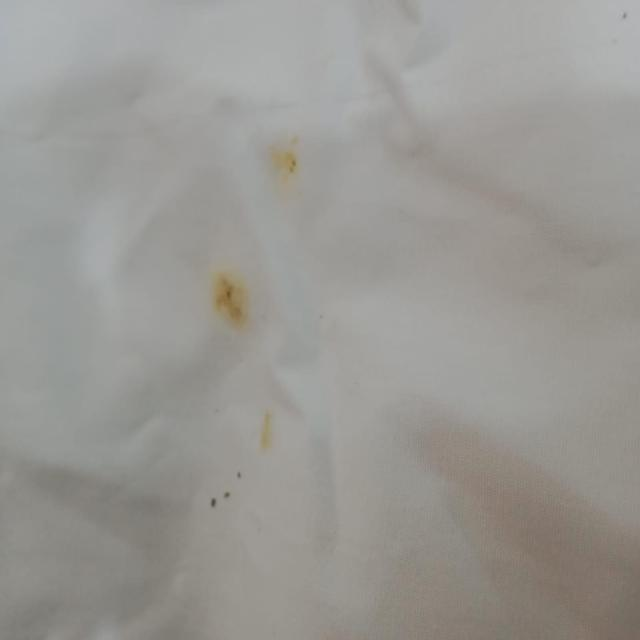stain: (207, 401, 280, 512), (255, 130, 311, 203), (206, 258, 253, 335)
